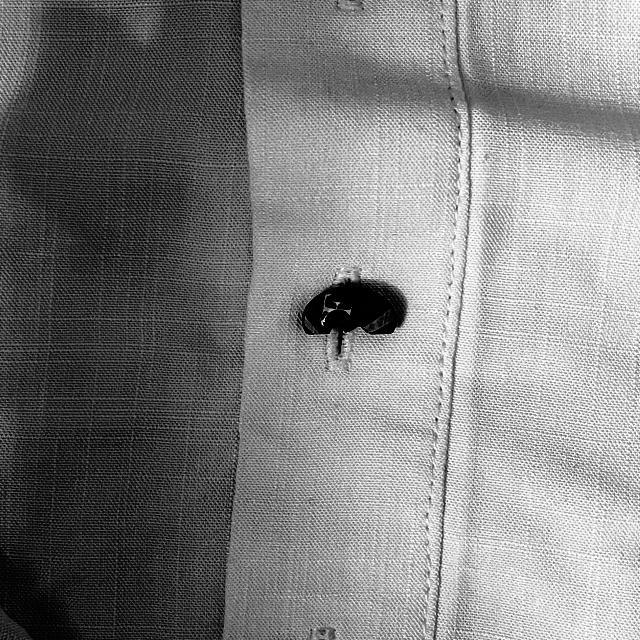Broken_button: (290, 265, 411, 359)
